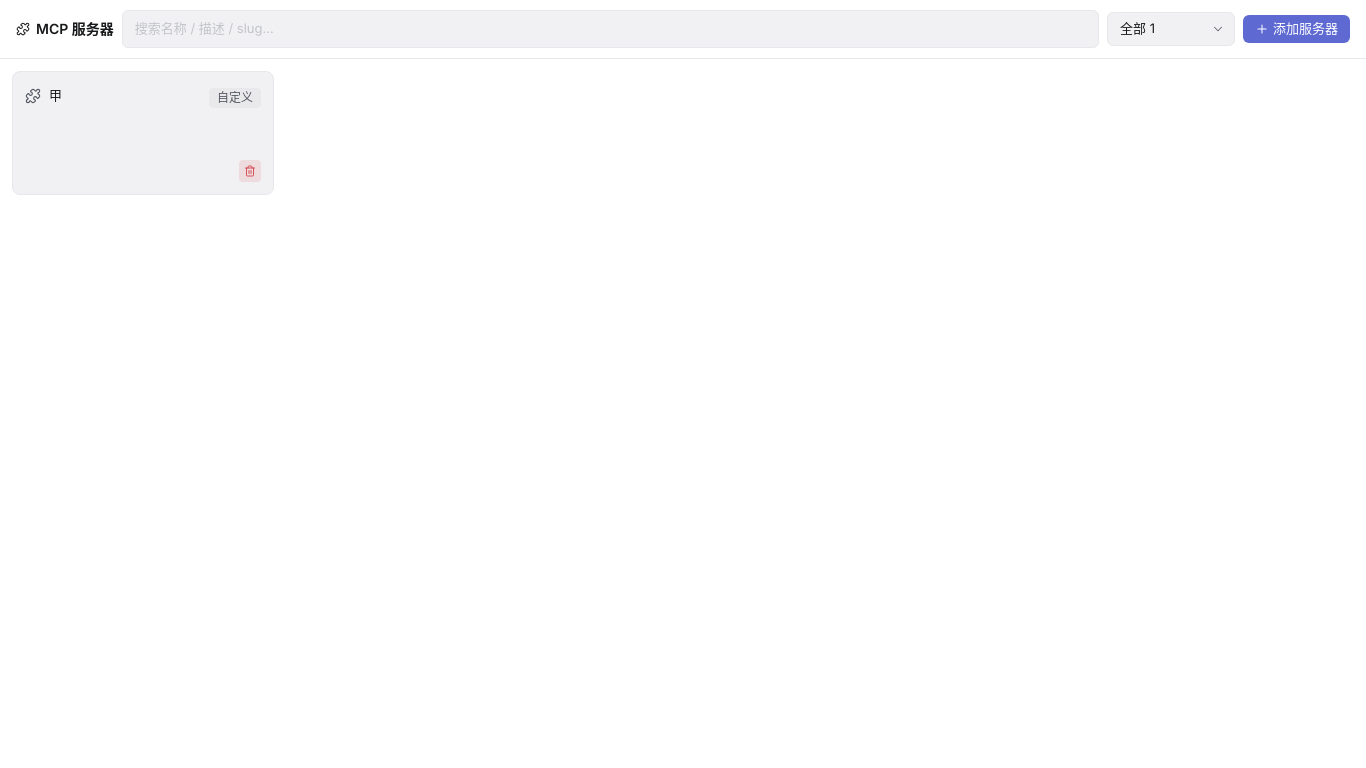
TypePageShell - 删除二次确认（P2.5 Task 4） › 行删除钮点击 → 确认弹窗出现（标题含资源名），此时不执行删除
The image size is (1366, 768).
Step 1. Click the button named "删除 甲" → (250, 170), box [239, 160, 261, 182]
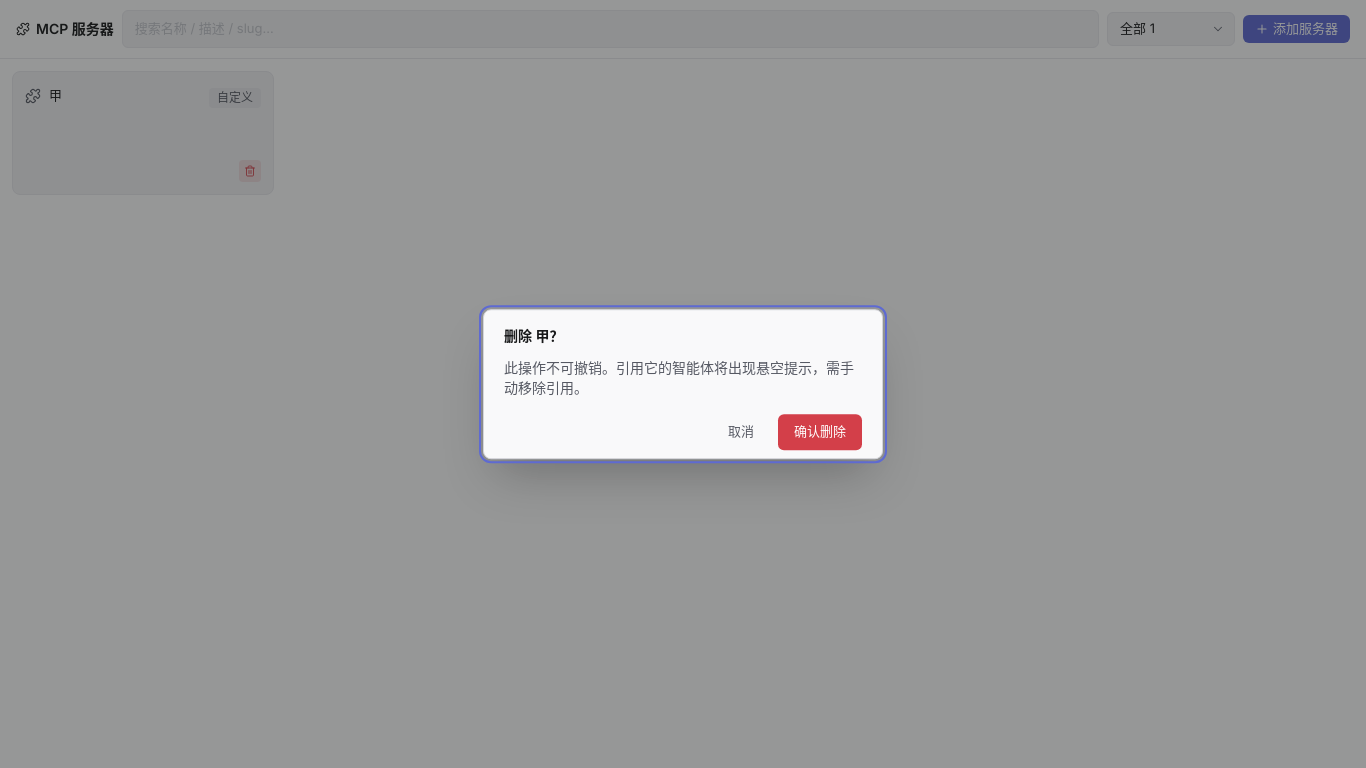
Result: the dialog "删除 甲？" is shown at [483, 309, 883, 459]
